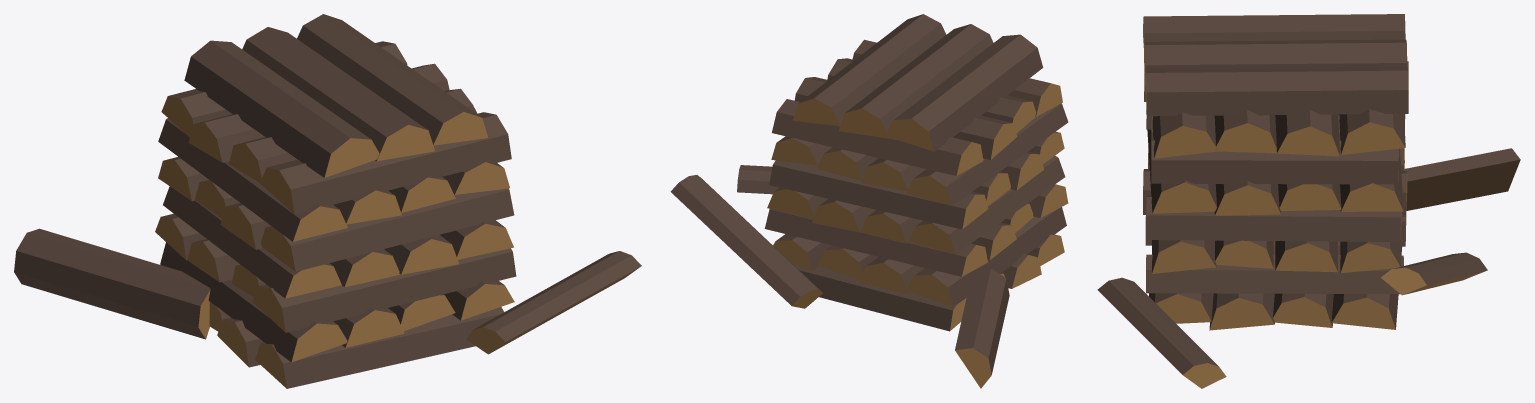
Rendered from firewood_2.glb.
3 renders of one model, left to right at view 1: azimuth 30°, elevation 25°; view 2: azimuth 150°, elevation 25°; view 3: azimuth 270°, elevation 25°, orthographic. The views are drawn at different scales.
Visible parts, largest first — view 1: Firewood_2; view 2: Firewood_2; view 3: Firewood_2.
Boxes of the visible parts, bbox=[...] form: Firewood_2: bbox=[14, 14, 641, 388]; Firewood_2: bbox=[670, 14, 1068, 388]; Firewood_2: bbox=[1097, 14, 1520, 388].
Size of the model in its own units: 1.46 by 0.7542 by 1.2.
